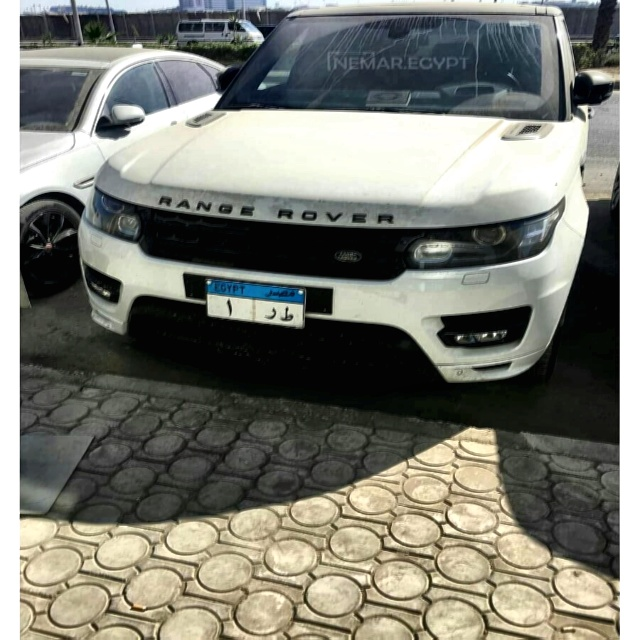License Plate: (203, 276, 309, 332)
